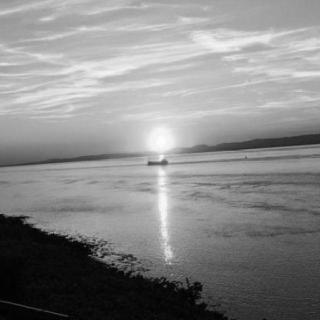other: (9, 135, 129, 158), (144, 125, 178, 163)
